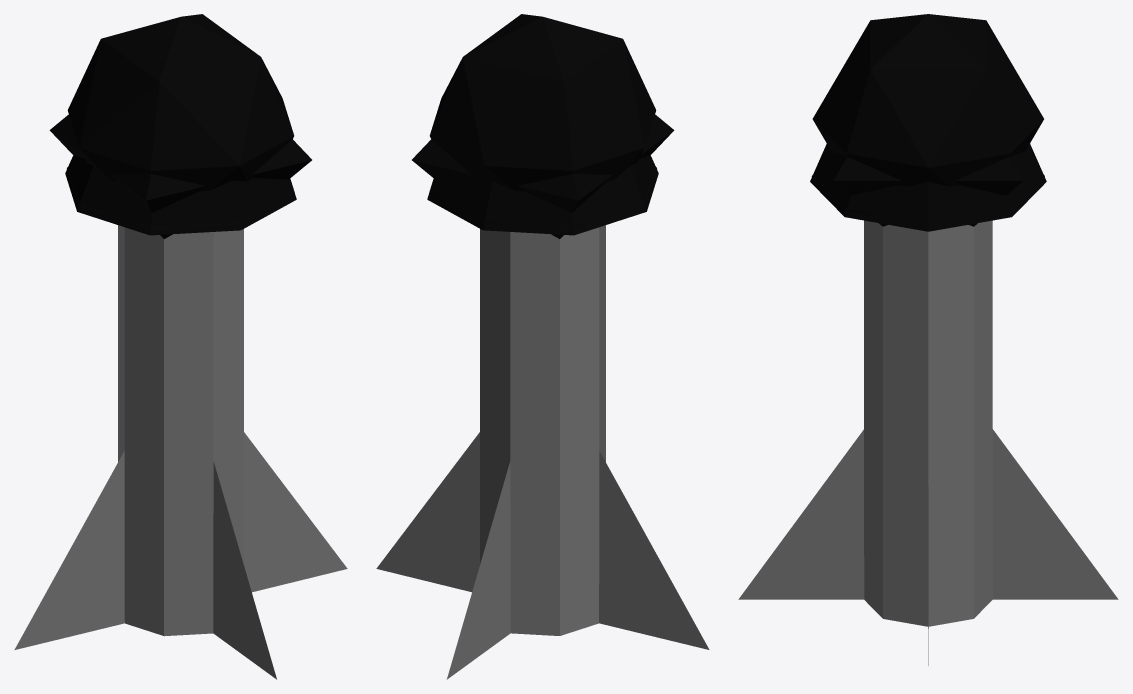
The model's file is Fireworks_FireworksParticle.glb.
The picture shows the model from 3 angles, left to right: view 1: azimuth 30°, elevation 25°; view 2: azimuth 150°, elevation 25°; view 3: azimuth 270°, elevation 25°; orthographic projection.
Parts seen in each view (by area): view 1: Body, HeadSphere, Fins, HeadCylinderLarge, HeadDiamondLarge, HeadConeLarge; view 2: Body, HeadSphere, Fins, HeadCylinderLarge, HeadDiamondLarge, HeadConeLarge; view 3: Body, HeadSphere, Fins, HeadCylinderLarge, HeadDiamondLarge, HeadConeLarge.
Boxes of the visible parts, box(x1,y1,x2,y2) form: Body: box(118, 225, 243, 636); HeadSphere: box(67, 14, 294, 191); Fins: box(14, 432, 347, 679); HeadCylinderLarge: box(65, 155, 296, 235); HeadDiamondLarge: box(49, 114, 311, 212); HeadConeLarge: box(67, 166, 294, 229); Body: box(480, 225, 605, 635); HeadSphere: box(429, 14, 656, 191); Fins: box(376, 432, 709, 679); HeadCylinderLarge: box(427, 155, 658, 235); HeadDiamondLarge: box(412, 114, 674, 212); HeadConeLarge: box(429, 166, 656, 229); Body: box(864, 220, 992, 626); HeadSphere: box(812, 14, 1043, 186); Fins: box(738, 429, 1118, 665); HeadCylinderLarge: box(810, 144, 1046, 231); HeadDiamondLarge: box(833, 152, 1023, 195); HeadConeLarge: box(811, 174, 1044, 225).
Bounding box in the file's own units: 0.445 × 0.7559 × 0.4449.
Materials: 1 (1 with a texture image).
